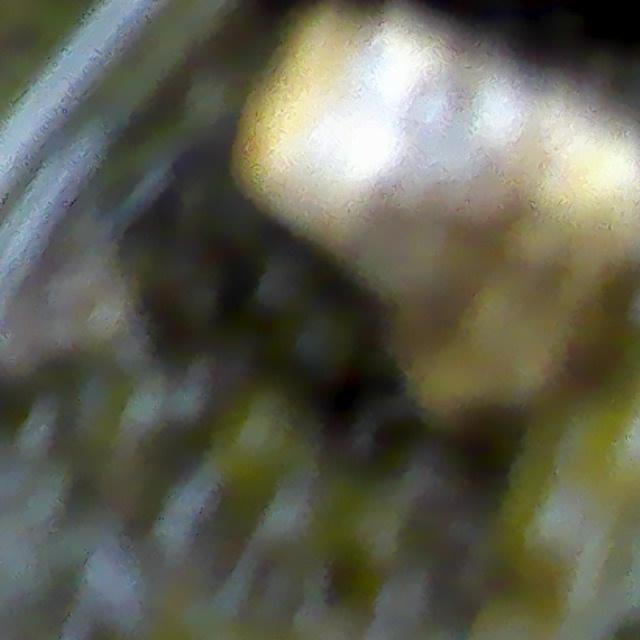SeaGrape: (289, 306, 358, 378)
